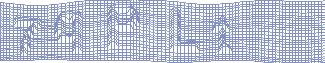7: (11, 15, 44, 56)
L: (167, 6, 200, 54)
P: (105, 3, 142, 53)
q: (53, 10, 84, 55)
t: (211, 14, 234, 55)
